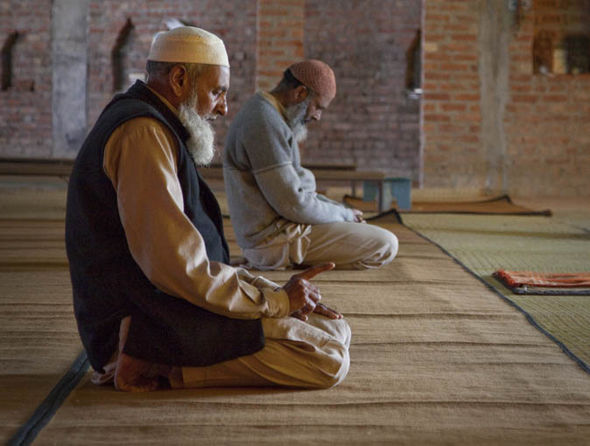sitting: (64, 25, 355, 392)
